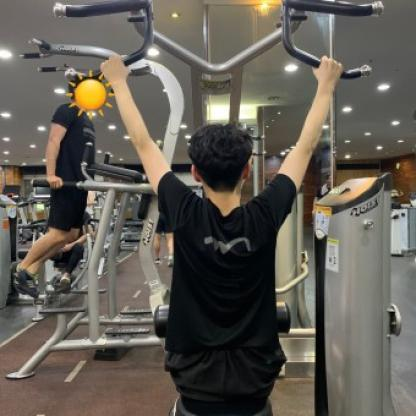Lat Pull Down: (46, 0, 400, 416)
